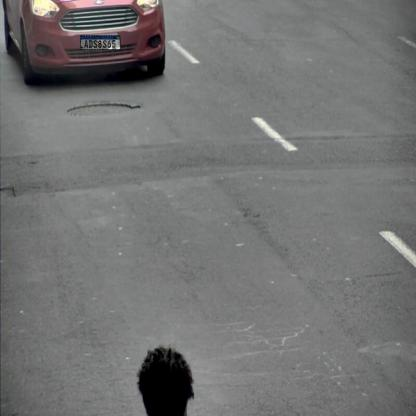PlacaM: (80, 35, 121, 50)
